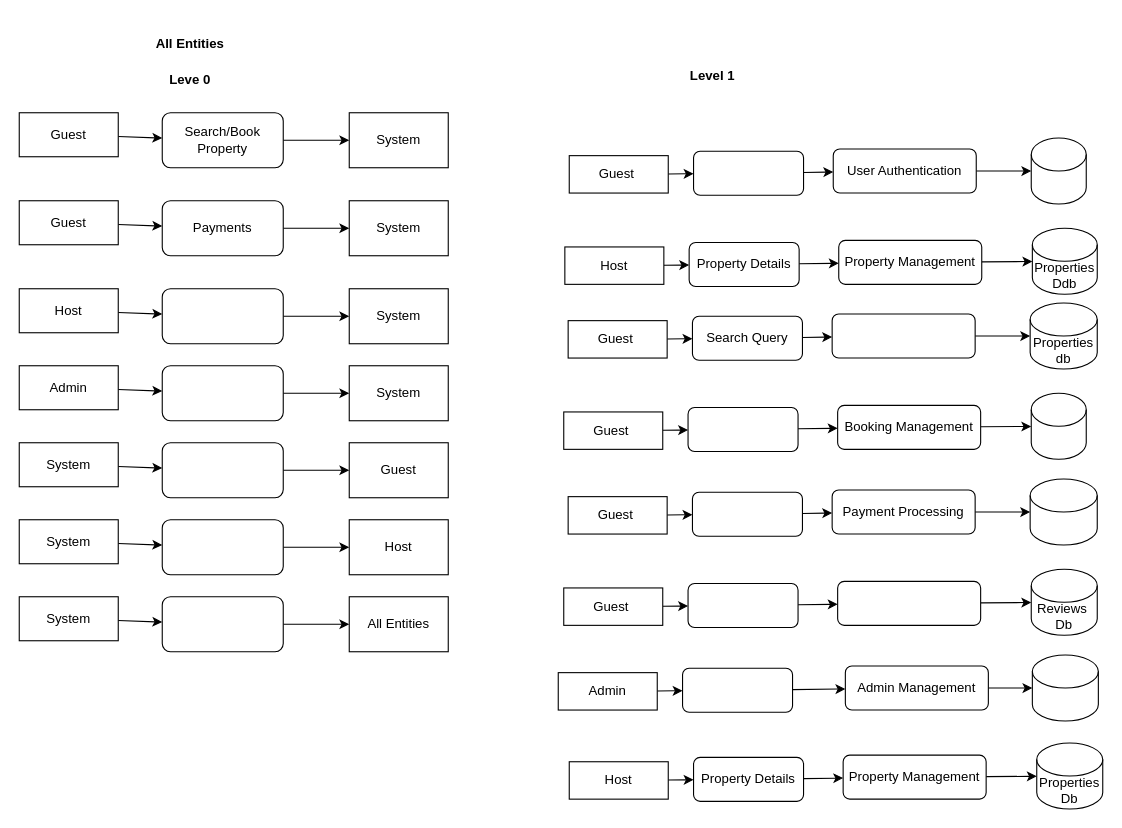
Some shapes in this 1122 by 828 pixel diagram are drawn without their labels. The shapes that lost their labels are listed below. From the top down, each one's centre as x and y in pixels, then its label:
At (x=748, y=172): "Credentials".
At (x=1058, y=170): "Users Ddb".
At (x=222, y=316): "Add/Edit Listings".
At (x=903, y=335): "Search and Filtering".
At (x=222, y=393): "Manage Users/Properties".
At (x=742, y=429): "Booking Request".
At (x=1058, y=425): "Bookings db".
At (x=222, y=470): "Booking Confirmations".
At (x=746, y=513): "Payment Details".
At (x=1063, y=511): "Payments Db".
At (x=222, y=547): "Payouts".
At (x=742, y=605): "Review Details".
At (x=909, y=602): "Review and Rating System".
At (x=222, y=624): "Notifications".
At (x=737, y=689): "User Management Request".
At (x=1064, y=687): "Users db".
